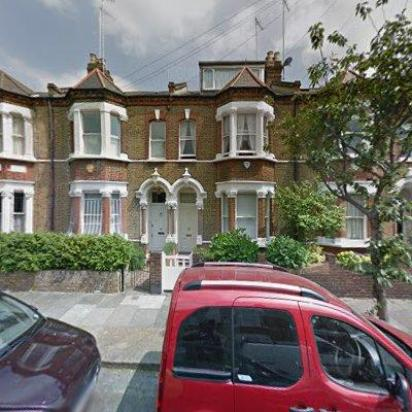stationary-car-onstreet: (155, 260, 412, 412), (0, 288, 104, 412)
